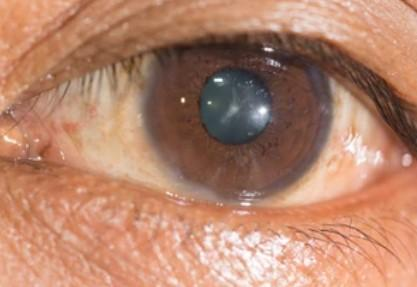eye: (147, 43, 335, 200)
